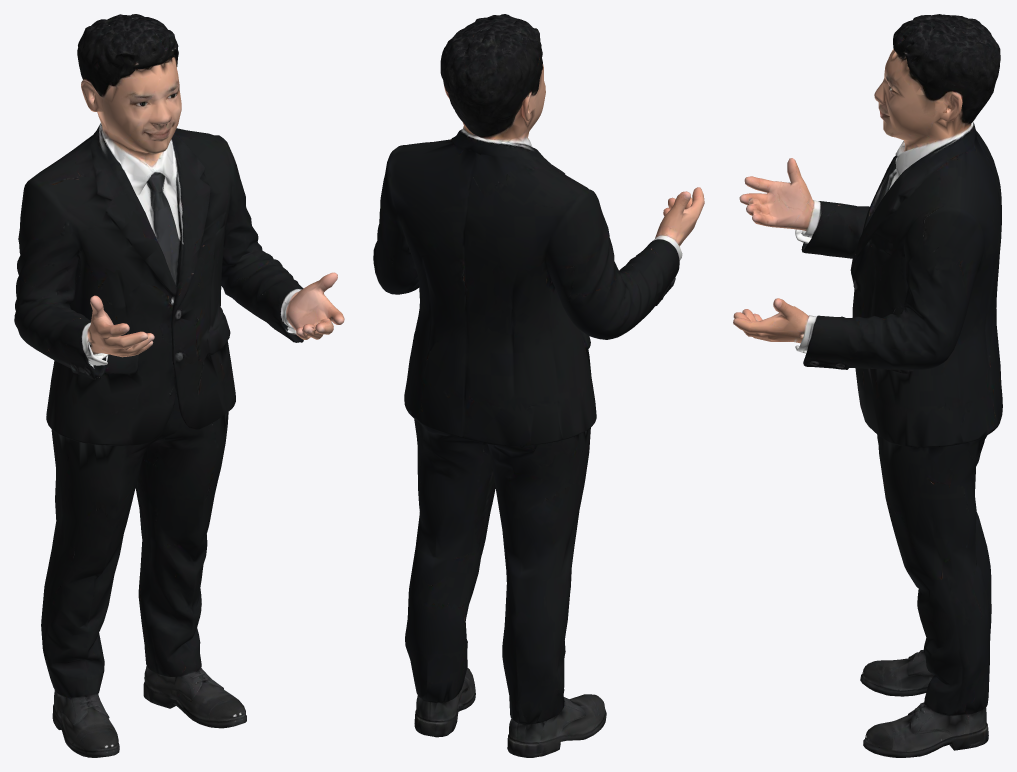
The model's file is speaker-male.glb.
3 renders of one model, left to right at view 1: azimuth 30°, elevation 25°; view 2: azimuth 150°, elevation 25°; view 3: azimuth 270°, elevation 25°, orthographic.
Size of the model in its own units: 0.7261 by 1.9 by 0.6669.
1 material, 1 textured.
